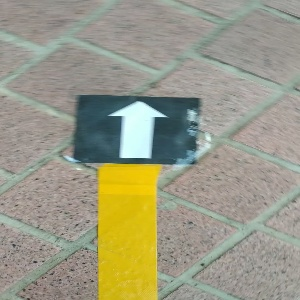straight: (74, 96, 198, 164)
